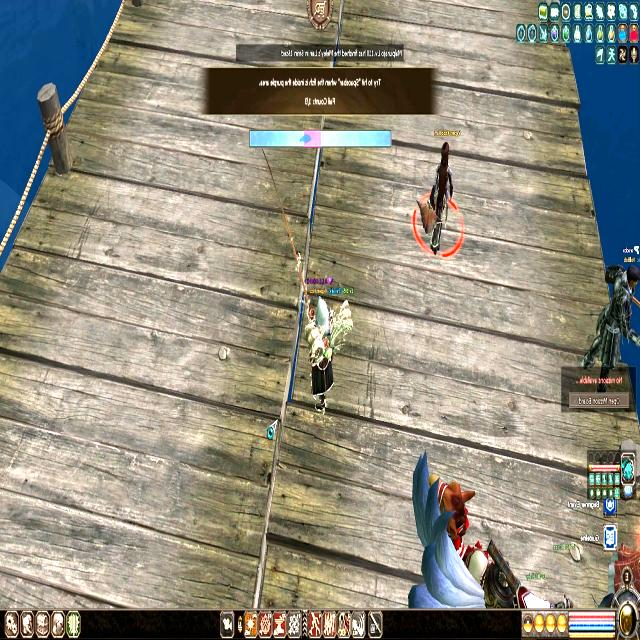fishes: (299, 132, 311, 146)
